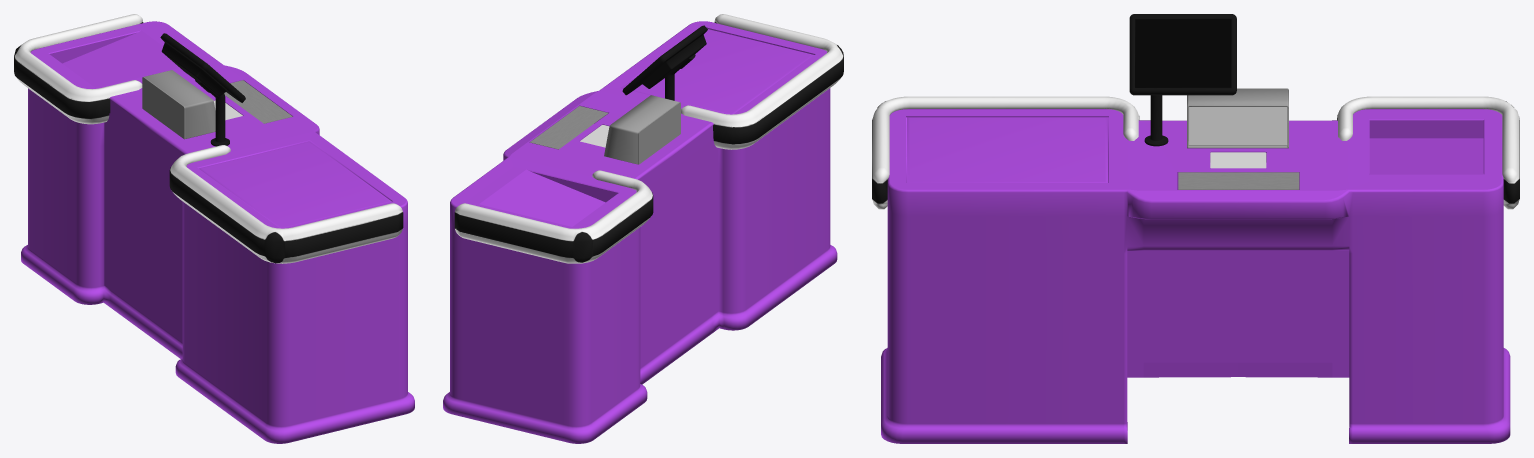
The model's file is cash_register.fbx.
3 renders of one model, left to right at view 1: azimuth 30°, elevation 25°; view 2: azimuth 150°, elevation 25°; view 3: azimuth 270°, elevation 25°, orthographic. The views are drawn at different scales.
Parts seen in each view (by area): view 1: body, z_porte_caisse_no_norm, pied_ecran; view 2: body, z_porte_caisse_no_norm, pied_ecran; view 3: body, z_porte_caisse_no_norm, pied_ecran.
Boxes of the visible parts, bbox=[...] form: body: bbox=[21, 21, 414, 443]; z_porte_caisse_no_norm: bbox=[14, 14, 403, 263]; pied_ecran: bbox=[160, 33, 245, 146]; body: bbox=[443, 21, 837, 443]; z_porte_caisse_no_norm: bbox=[454, 14, 843, 263]; pied_ecran: bbox=[622, 25, 707, 100]; body: bbox=[881, 109, 1510, 443]; z_porte_caisse_no_norm: bbox=[872, 88, 1519, 209]; pied_ecran: bbox=[1129, 14, 1236, 146].
Bounding box in the file's own units: 1.99 × 0.7035 × 1.23.
